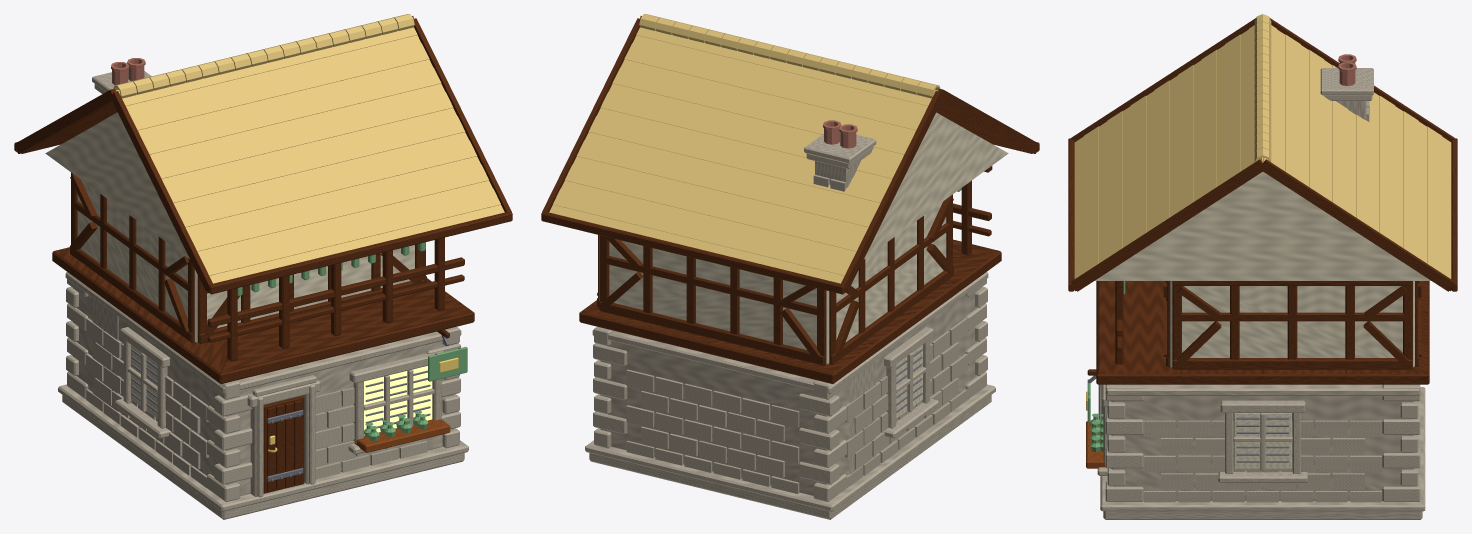
File: fantasy-mmo-city-and-townsfolk-apothecary-shop-922c13d1__32736.glb
3 views of the same model, side by side, from view 1: azimuth 30°, elevation 25°; view 2: azimuth 150°, elevation 25°; view 3: azimuth 270°, elevation 25° (orthographic).
Parts seen in each view (by area): view 1: apothecary-shop, door/timber, sign/leaf; view 2: apothecary-shop; view 3: apothecary-shop.
Part boxes in pixels (<box>): apothecary-shop: <box>14,14,512,519</box>; door/timber: <box>263,396,304,493</box>; sign/leaf: <box>428,346,467,381</box>; apothecary-shop: <box>541,14,1039,519</box>; apothecary-shop: <box>1068,14,1457,519</box>.
Bounding box in the file's own units: 8.18 × 9.88 × 9.23.
10 materials, 5 textured.
